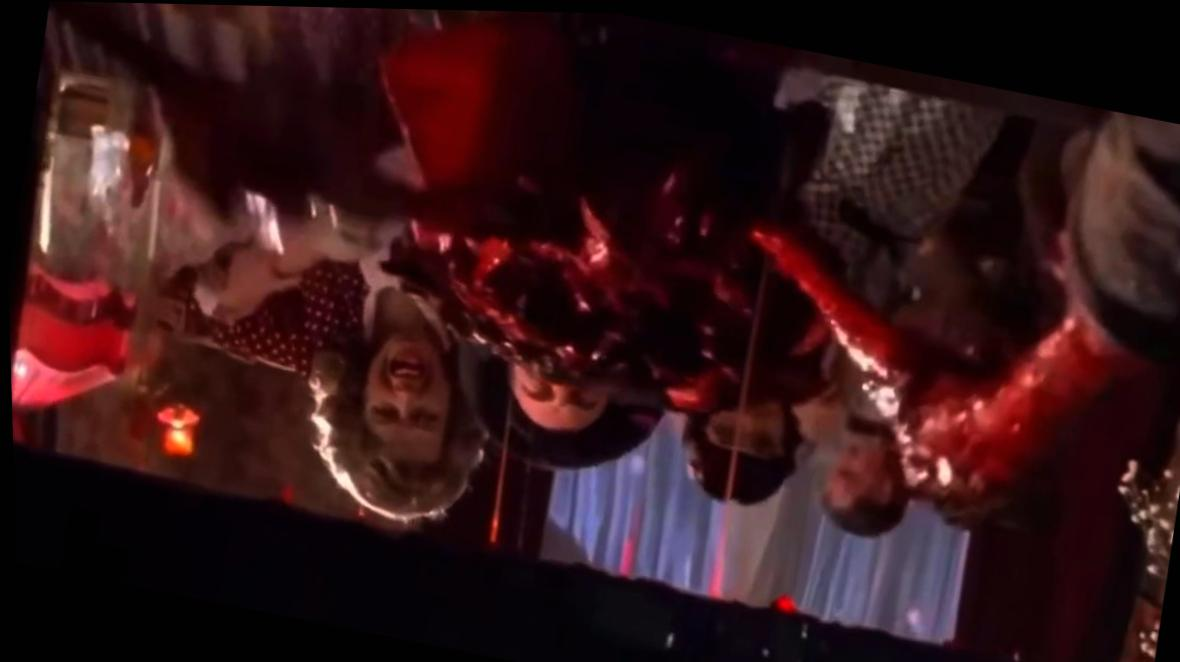Fire: (380, 14, 1141, 505), (705, 256, 768, 597), (484, 397, 508, 548), (614, 538, 630, 576), (515, 500, 522, 551), (276, 485, 290, 504)
